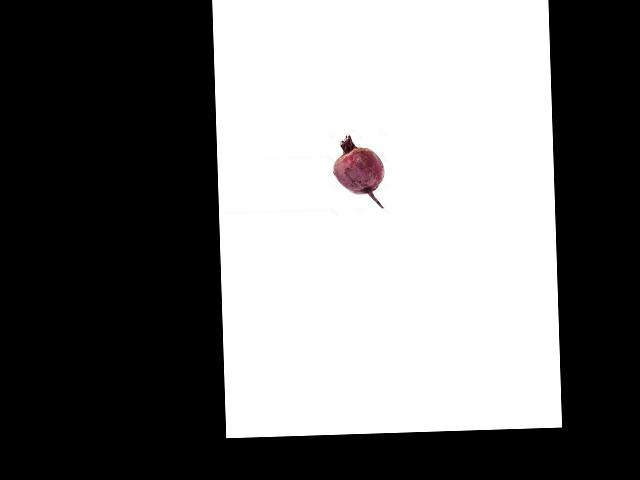beet: (333, 134, 385, 208)
